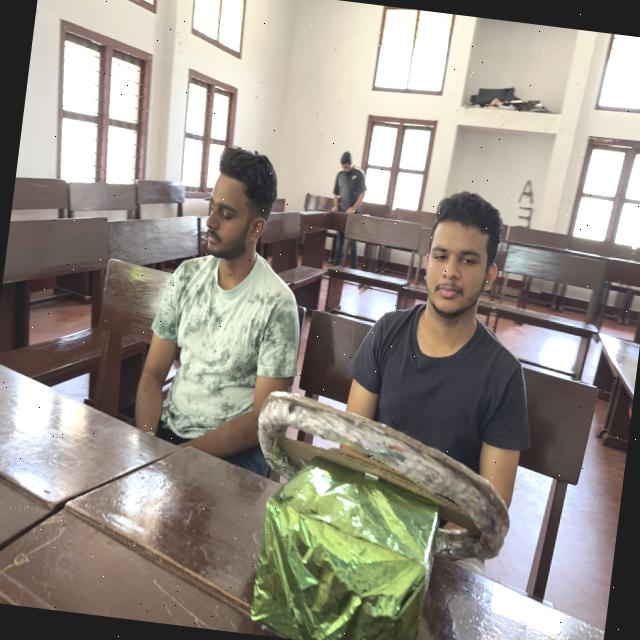Helmet: (327, 300, 540, 574), (123, 252, 306, 482)
